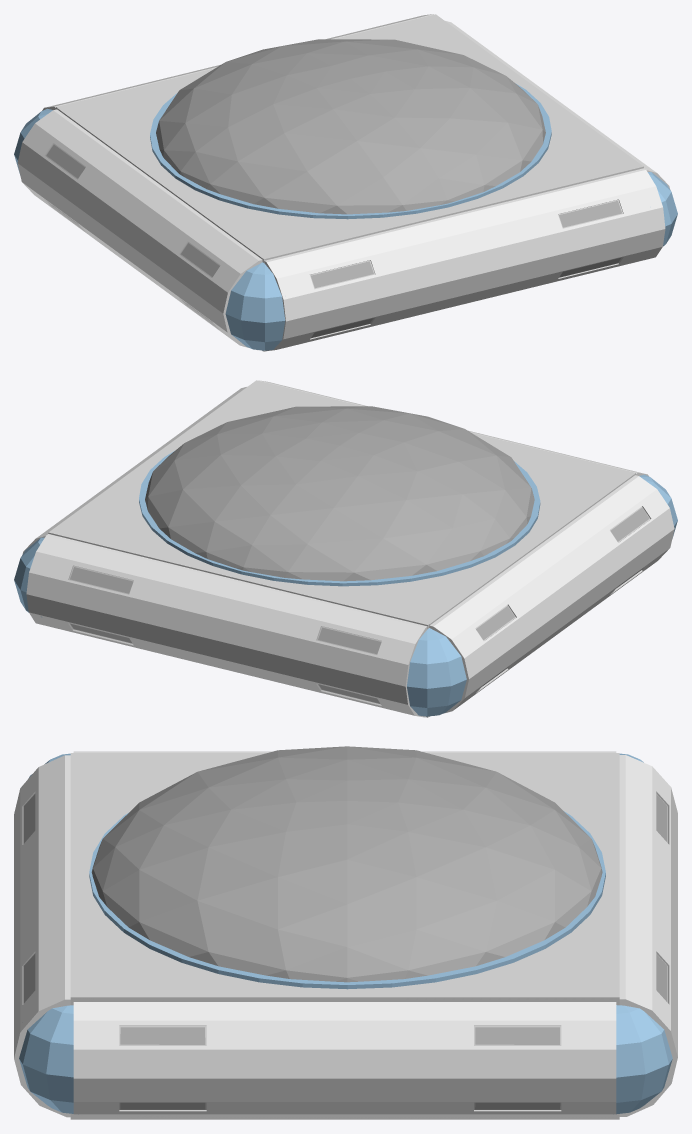
3 views of the same model, one above another, from view 1: azimuth 30°, elevation 25°; view 2: azimuth 150°, elevation 25°; view 3: azimuth 270°, elevation 25° (orthographic). The views are drawn at different scales.
Parts seen in each view (by area): view 1: Cylinder_11; view 2: Cylinder_11; view 3: Cylinder_11.
Boxes of the visible parts, x1=… form: Cylinder_11: x1=14, y1=14, x2=677, y2=351; Cylinder_11: x1=14, y1=380, x2=677, y2=717; Cylinder_11: x1=14, y1=746, x2=677, y2=1119.
Size of the model in its own units: 1476 by 469 by 1429.
